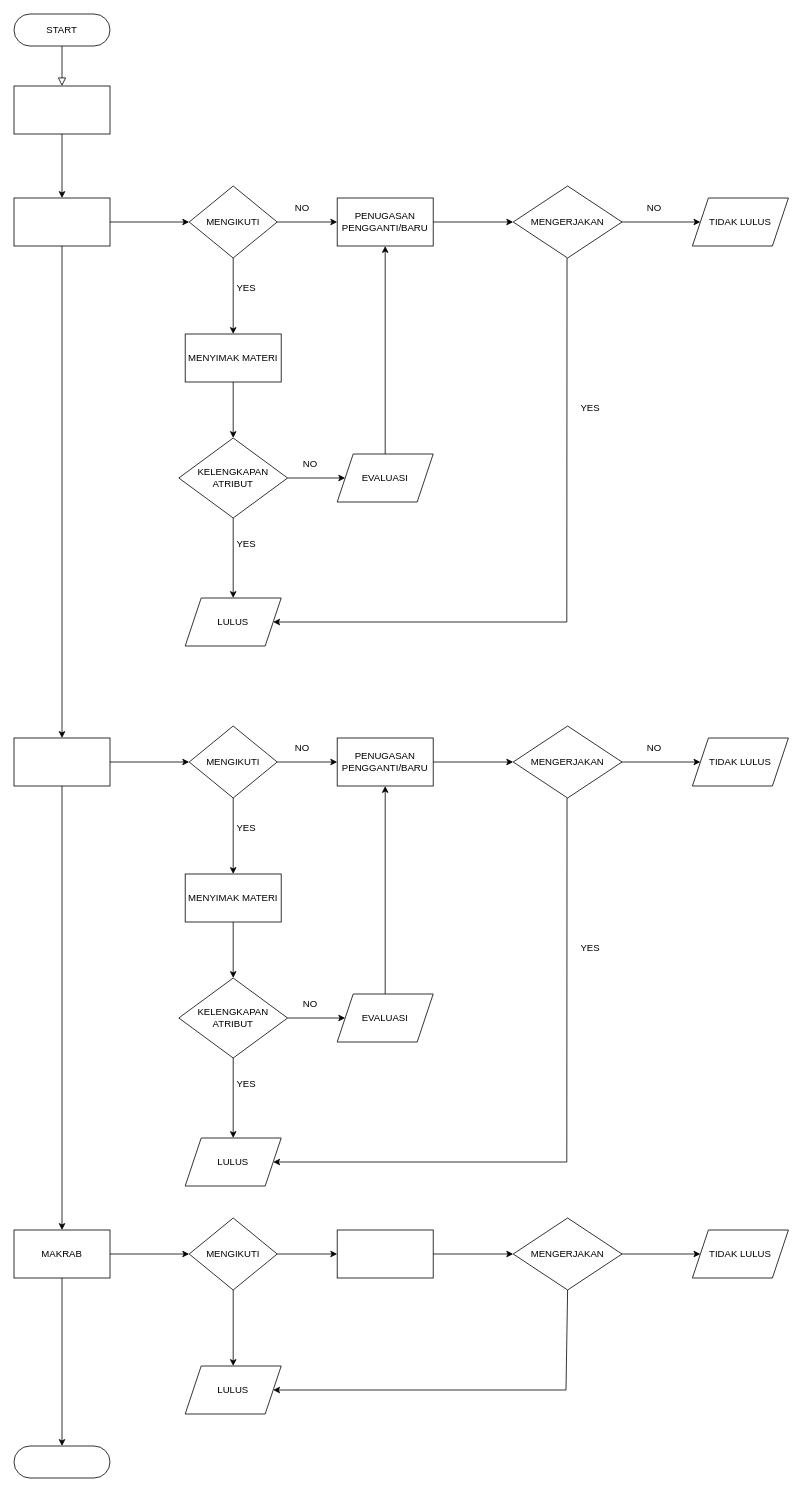
Image size: 802x1492. Some labels were removed from this diagram. Here are the shapes that lost their labels. From the top down, the centre of each, then its label:
At [61,109]: "DEMO".
At [61,221]: "MAINPHASE".
At [61,761]: "PKMMBD".
At [384,1253]: "PENUGASAN PENGGANTI".
At [61,1461]: "END".
